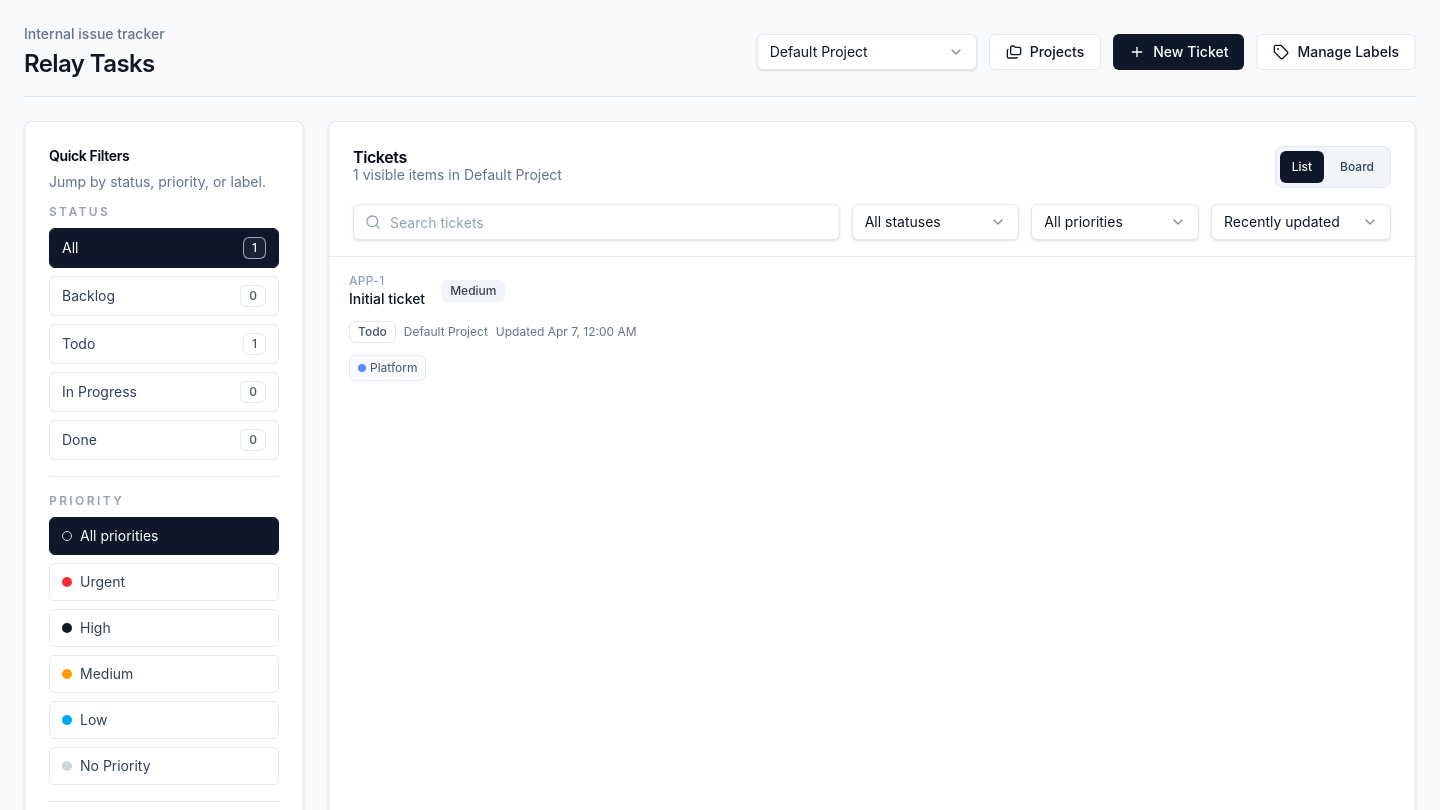
Test: App › switches between list and board views and syncs the url query
Expected: the button "Initial ticket" is shown, [329, 257, 1415, 397]
What coordinates should you click on to do the following:
click the button "Board"
I would click on:
 (1357, 167)
Its box is [1328, 151, 1386, 183].
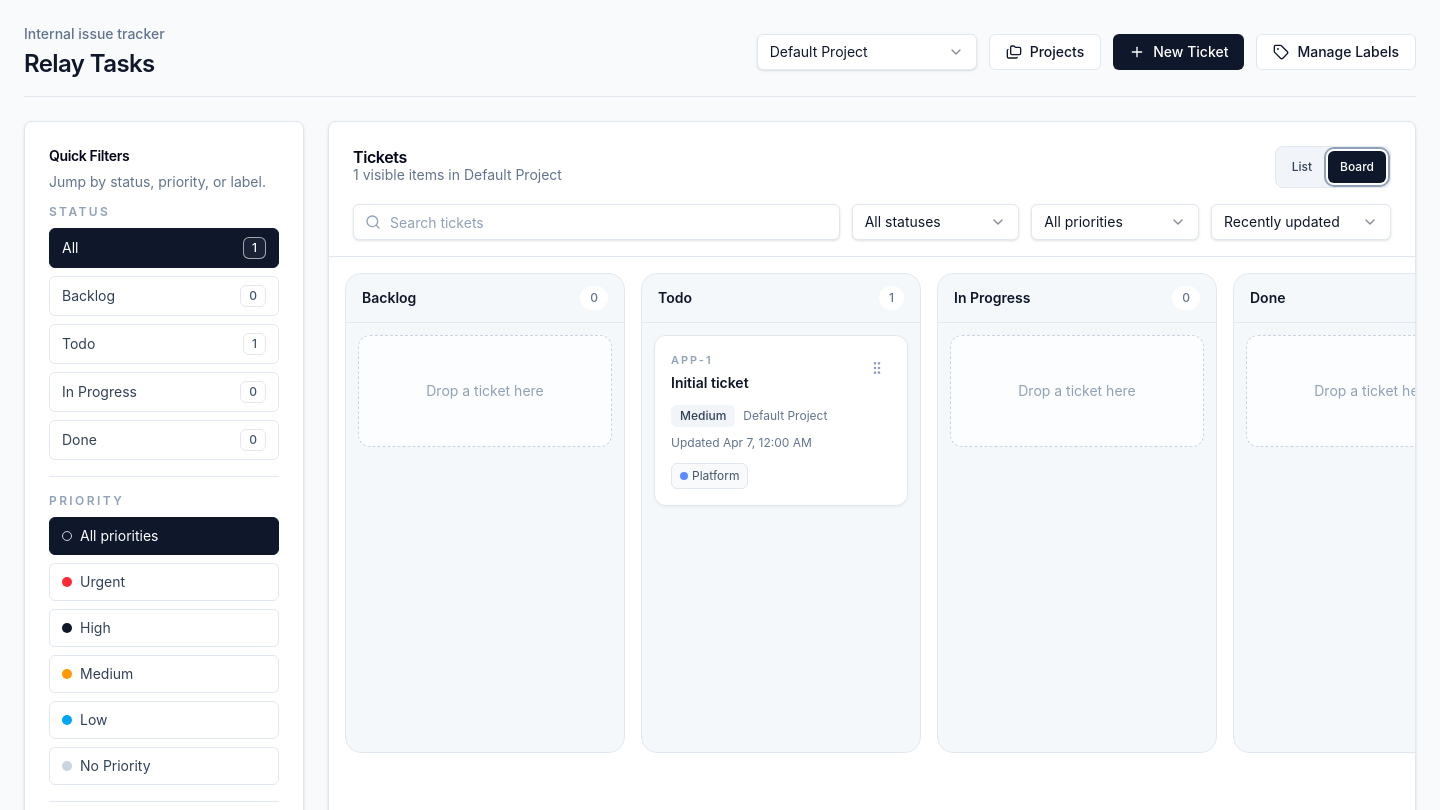
Expected: the heading "Todo" is shown, [658, 288, 692, 308]
What coordinates should you click on to do the following:
click the button "List"
I would click on:
 (1302, 167)
Its box is [1280, 151, 1324, 183].
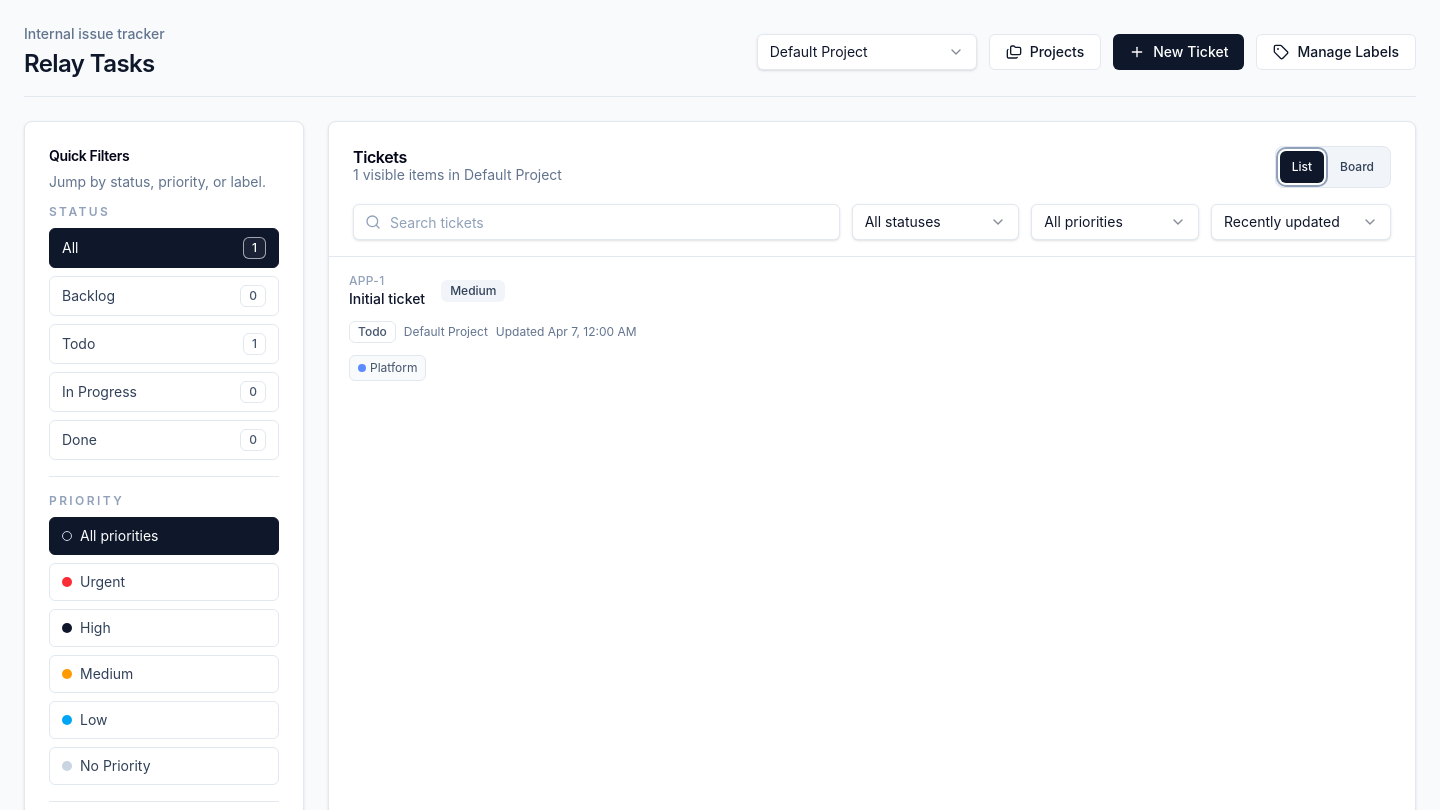
Expected: the button "Initial ticket" is shown, [329, 257, 1415, 397]
